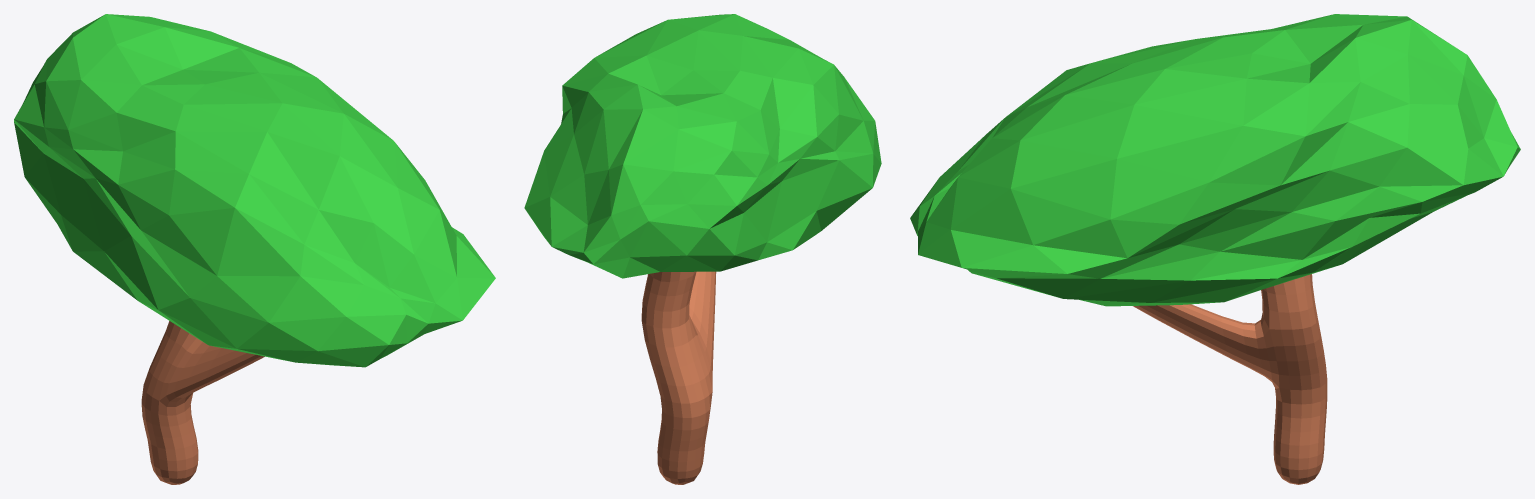
Rendered from Tree.fbx.
3 views of the same model, side by side, from view 1: azimuth 30°, elevation 25°; view 2: azimuth 150°, elevation 25°; view 3: azimuth 270°, elevation 25° (orthographic). The views are drawn at different scales.
Visible parts, largest first — view 1: Icosphere, Cube; view 2: Icosphere, Cube; view 3: Icosphere, Cube.
Boxes of the visible parts, x1,y1,x2,y2 form: Icosphere: (14,14,495,367); Cube: (141,321,264,484); Icosphere: (524,14,881,278); Cube: (641,271,716,484); Icosphere: (910,14,1520,306); Cube: (1133,274,1327,484).
Bounding box in the file's own units: 5.58 × 8 × 9.74.
